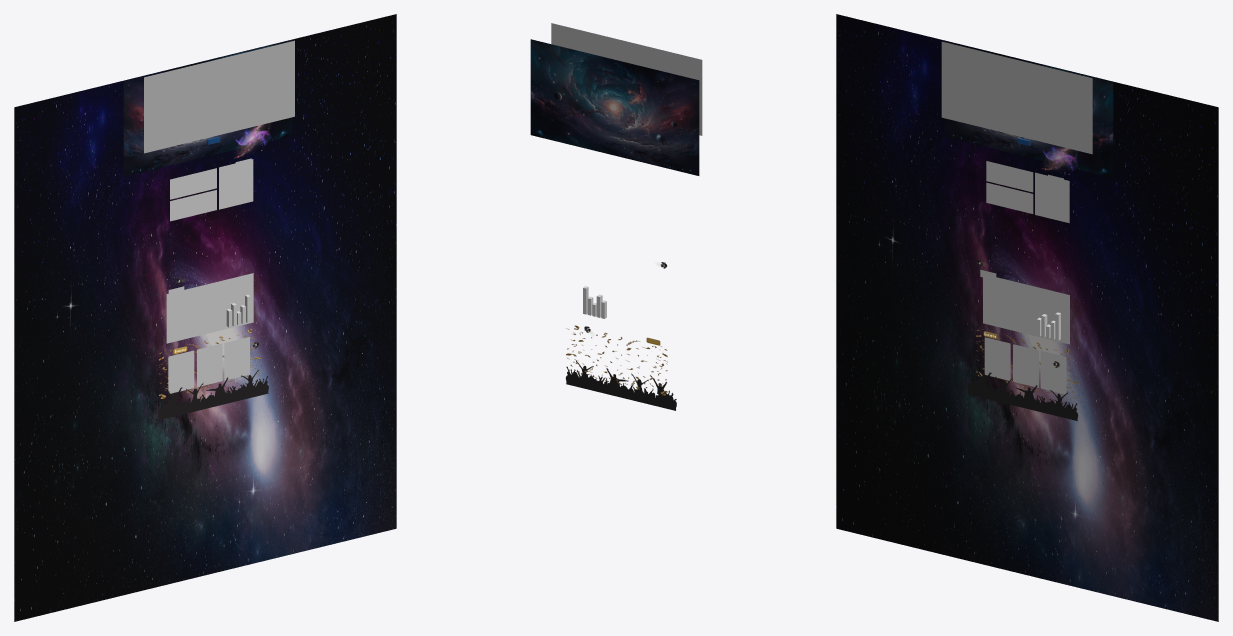
The model's file is cbl.gltf.
The picture shows the model from 3 angles, left to right: view 1: azimuth 30°, elevation 25°; view 2: azimuth 150°, elevation 25°; view 3: azimuth 330°, elevation 25°; orthographic projection.
Parts seen in each view (by area): view 1: Plano, galaxia, universe, Plano.005, party, Plano.003, Plano.007, Plano.009, Plano.008, Plano.001, Plano.002, planetas (+1 smaller); view 2: universe, galaxia, party, confeti, grafico; view 3: Plano, galaxia, universe, Plano.005, party, Plano.003, Plano.007, Plano.009, Plano.001, Plano.002, Plano.008, planetas (+1 smaller).
Boxes of the visible parts, x1,y1,x2,y2 form: Plano: (14,14,396,621); galaxia: (144,40,294,153); universe: (123,40,292,176); Plano.005: (166,273,253,343); party: (158,369,268,420); Plano.003: (219,159,253,209); Plano.007: (168,350,194,393); Plano.009: (224,337,249,380); Plano.008: (197,343,222,387); Plano.001: (170,190,216,221); Plano.002: (170,168,216,199); planetas: (234,123,272,158); universe: (530,39,699,175); galaxia: (551,23,702,135); party: (565,360,676,410); confeti: (566,325,667,395); grafico: (583,286,606,318); Plano: (836,14,1218,621); galaxia: (941,41,1092,154); universe: (944,41,1113,177); Plano.005: (983,277,1069,344); party: (967,370,1078,420); Plano.003: (1035,172,1069,223); Plano.007: (984,337,1010,380); Plano.009: (1040,351,1066,394); Plano.001: (986,182,1033,213); Plano.002: (986,161,1033,192); Plano.008: (1013,344,1038,387); planetas: (1040,145,1079,174).
Size of the model in its own units: 39.62 by 51.93 by 2.16.
